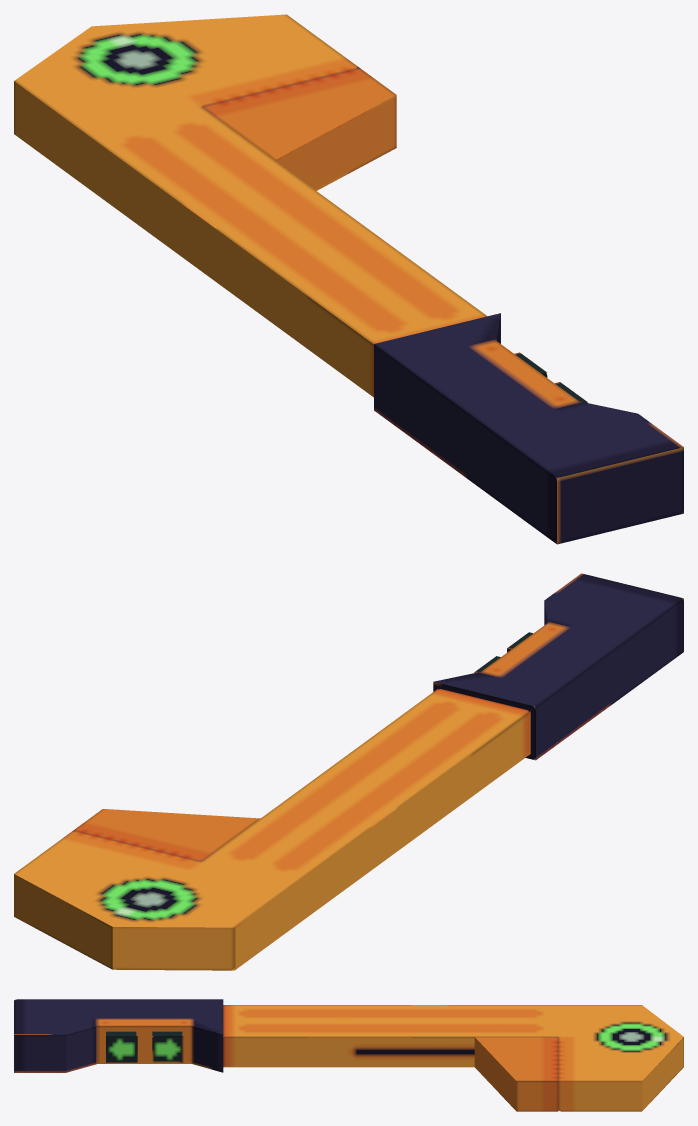
File: Tool.fbx
3 renders of one model, top to bottom at view 1: azimuth 30°, elevation 25°; view 2: azimuth 150°, elevation 25°; view 3: azimuth 270°, elevation 25°, orthographic. The views are drawn at different scales.
Visible parts, largest first — view 1: cuboid_1, cuboid, cuboid_2; view 2: cuboid_1, cuboid, cuboid_2; view 3: cuboid_1, cuboid, cuboid_2, cuboid_4, cuboid_3.
Part boxes in pixels (x1,y1,x2,y2): cuboid_1: (14, 14, 486, 397); cuboid: (374, 313, 683, 544); cuboid_2: (202, 68, 396, 190); cuboid_1: (14, 689, 530, 970); cuboid: (433, 573, 683, 760); cuboid_2: (73, 809, 260, 861); cuboid_1: (223, 1005, 683, 1111); cuboid: (14, 999, 223, 1072); cuboid_2: (474, 1037, 558, 1111); cuboid_4: (106, 1031, 137, 1062); cuboid_3: (152, 1031, 183, 1062).
Size of the model in its own units: 55 by 12.5 by 200.
1 material, 1 textured.
